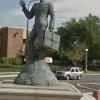Statue: (15, 2, 53, 78)
